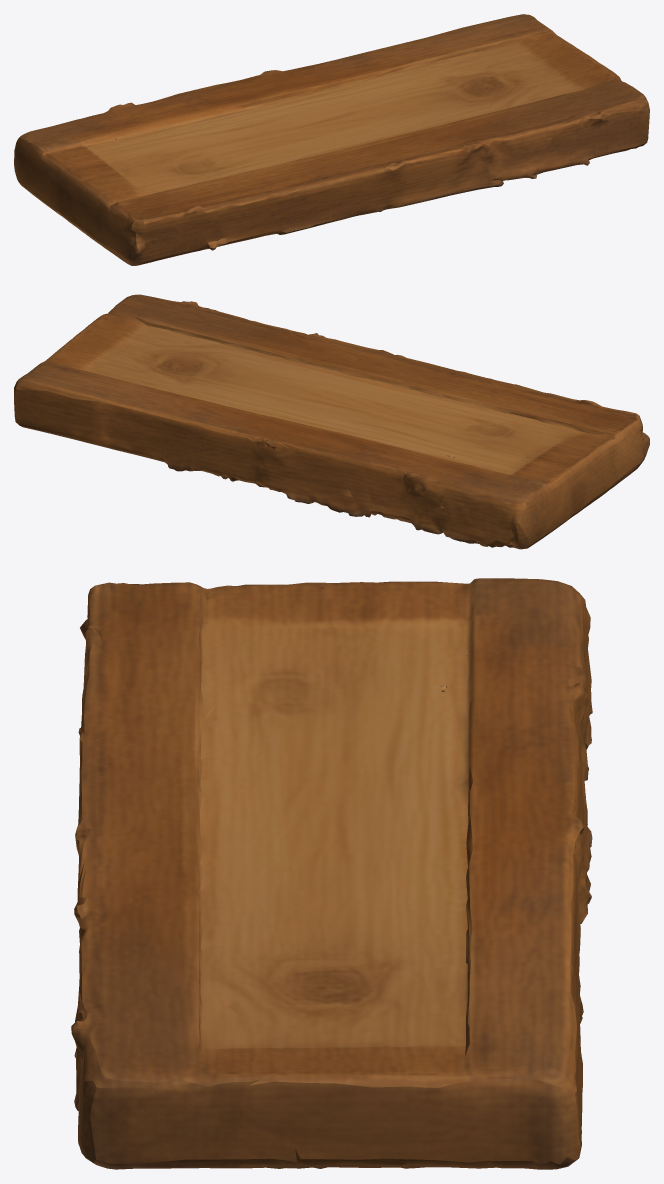
File: shaving.glb
3 views of the same model, one above another, from view 1: azimuth 30°, elevation 25°; view 2: azimuth 150°, elevation 25°; view 3: azimuth 270°, elevation 25° (orthographic). The views are drawn at different scales.
Parts seen in each view (by area): view 1: world; view 2: world; view 3: world.
Part boxes in pixels (x1=…): world: x1=14, y1=14, x2=649, y2=265; world: x1=14, y1=294, x2=649, y2=549; world: x1=71, y1=578, x2=592, y2=1169.
Size of the model in its own units: 1 by 0.1011 by 0.4384.
1 material, 1 textured.
